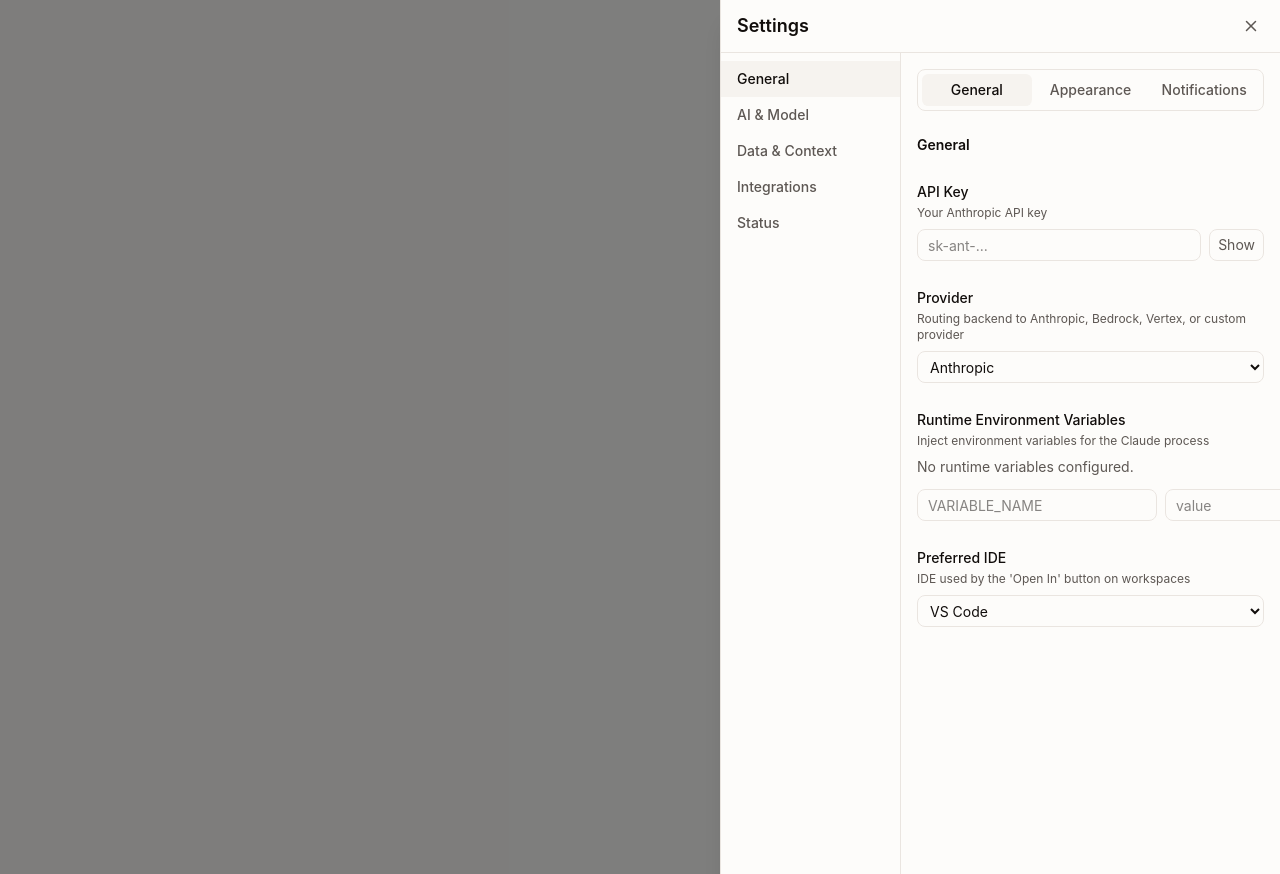
Test case: SettingsPanel › switches between General subsections for focused edits
Click the tab "Appearance".
click(1091, 90)  # box [1036,74,1145,106]
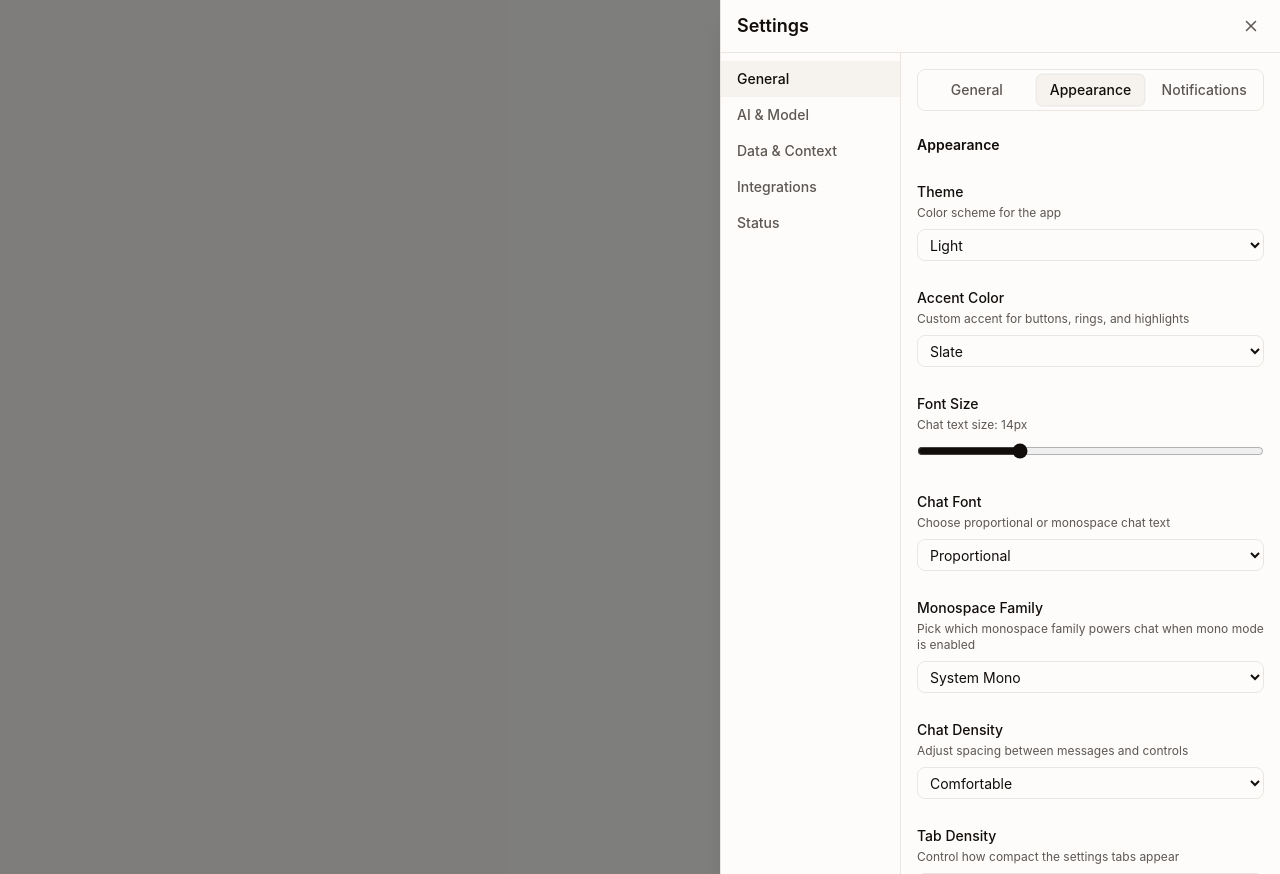
Check: the text "Theme" is shown, box [917,183,964,200]
Check: the text "API Key" is gone
Click the tab "Notifications".
click(1204, 90)  # box [1149,74,1259,106]
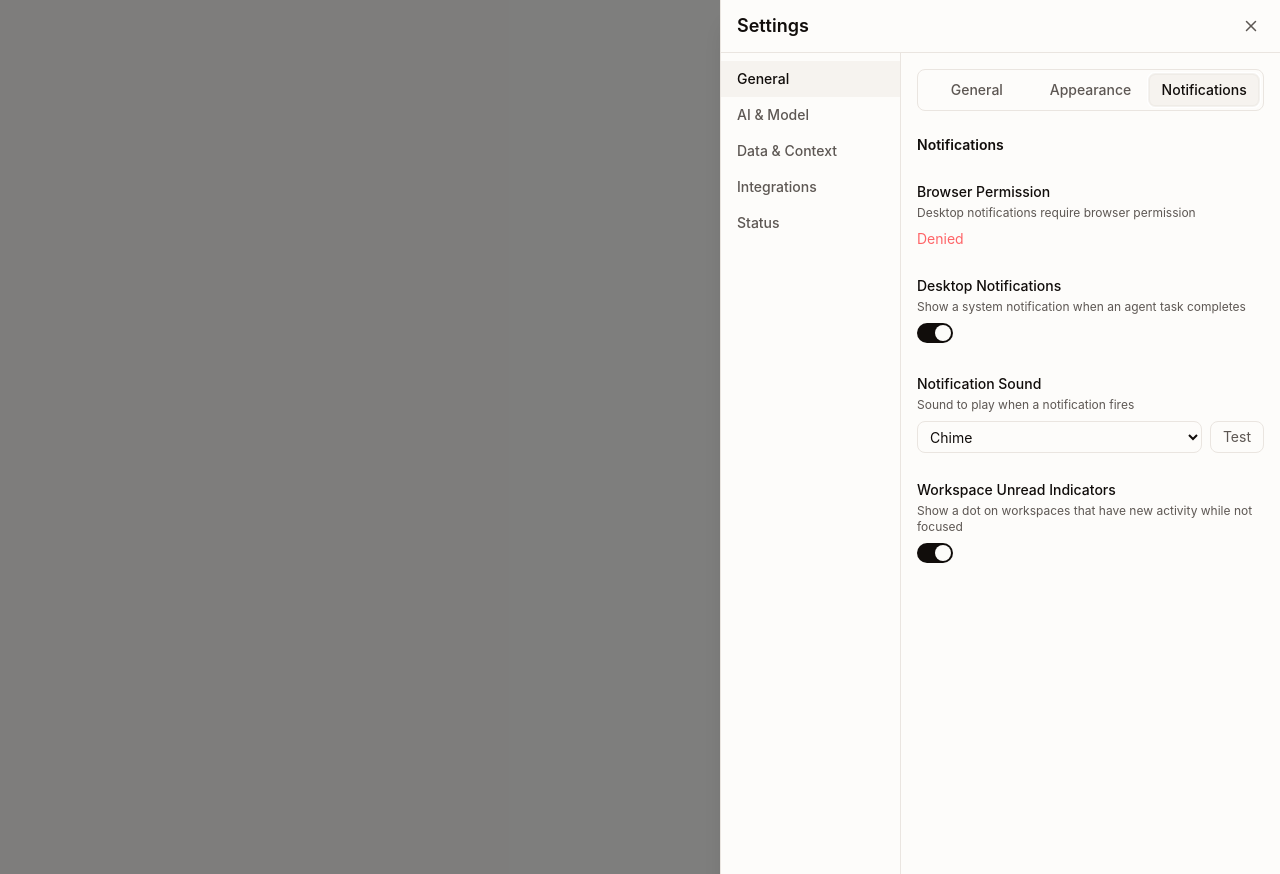
Check: the text "Desktop Notifications" is shown, box [917,277,1061,294]
Check: the text "Theme" is gone
